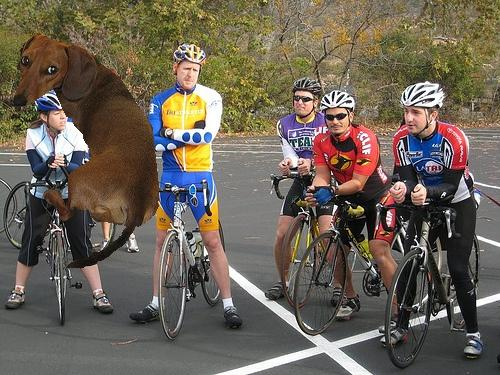tampered: (14, 34, 159, 268)
